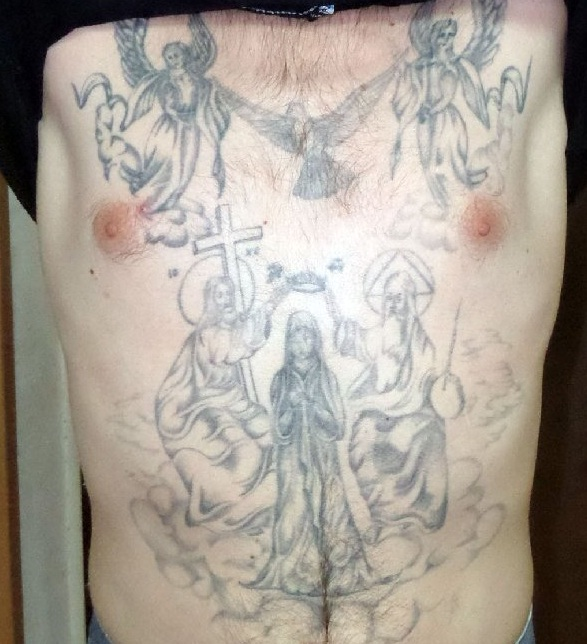tatu1_angel: (397, 1, 535, 215), (79, 17, 235, 205)
tatu9_krest: (185, 202, 266, 275)
